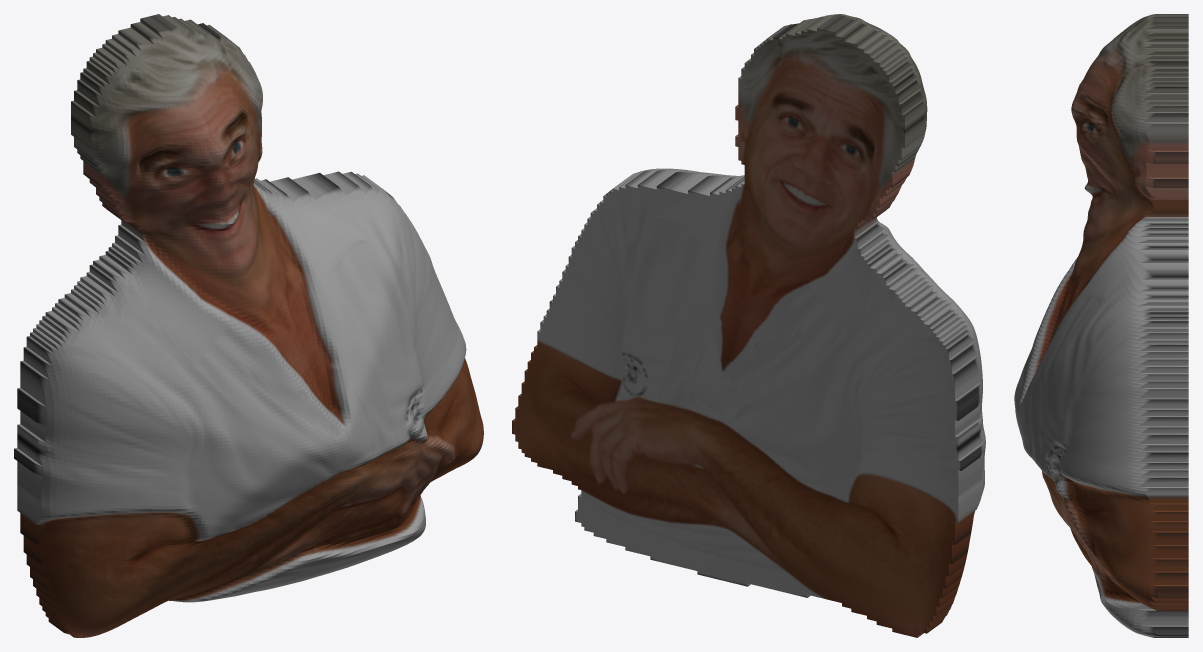
File: portrait_relief.glb
The picture shows the model from 3 angles, left to right: view 1: azimuth 30°, elevation 25°; view 2: azimuth 150°, elevation 25°; view 3: azimuth 270°, elevation 25°; orthographic projection. The views are drawn at different scales.
Visible parts, largest first — view 1: geometry_0; view 2: geometry_0; view 3: geometry_0.
Boxes of the visible parts, x1=… form: geometry_0: x1=14, y1=14, x2=483, y2=637; geometry_0: x1=512, y1=14, x2=985, y2=637; geometry_0: x1=1014, y1=14, x2=1188, y2=637.
Size of the model in its own units: 0.9728 by 1.21 by 0.359.
Materials: 1 (1 with a texture image).
